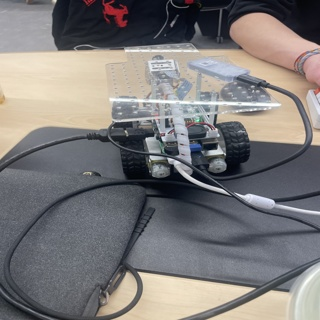vehicle: (104, 45, 282, 178)
